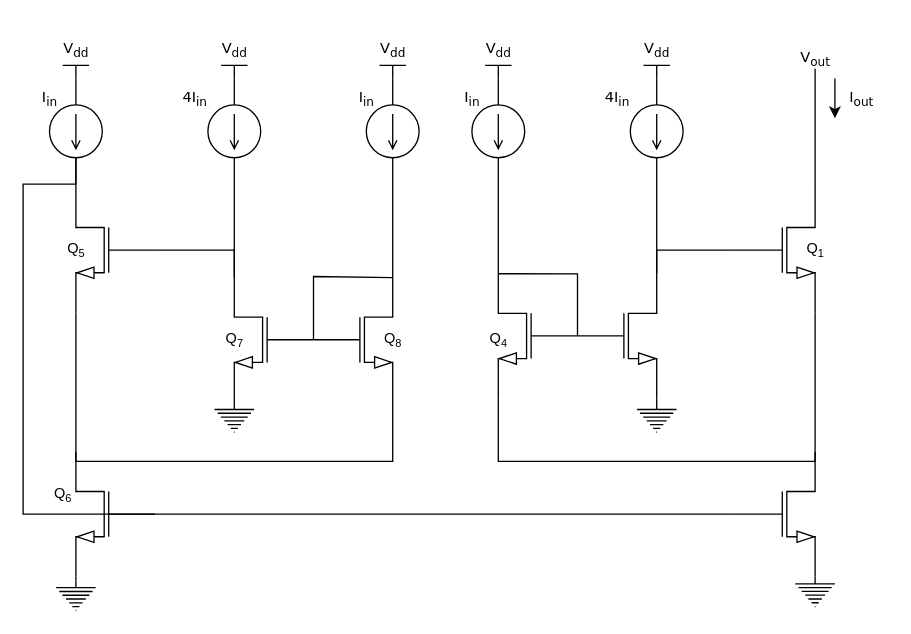
This 911x634 diagram has some shape labels left out. The box of each missing label's shape, as (x1, y1, x2, y2) in pixels:
Q 2: (735, 447, 815, 580)
Q 3: (576, 269, 657, 402)
